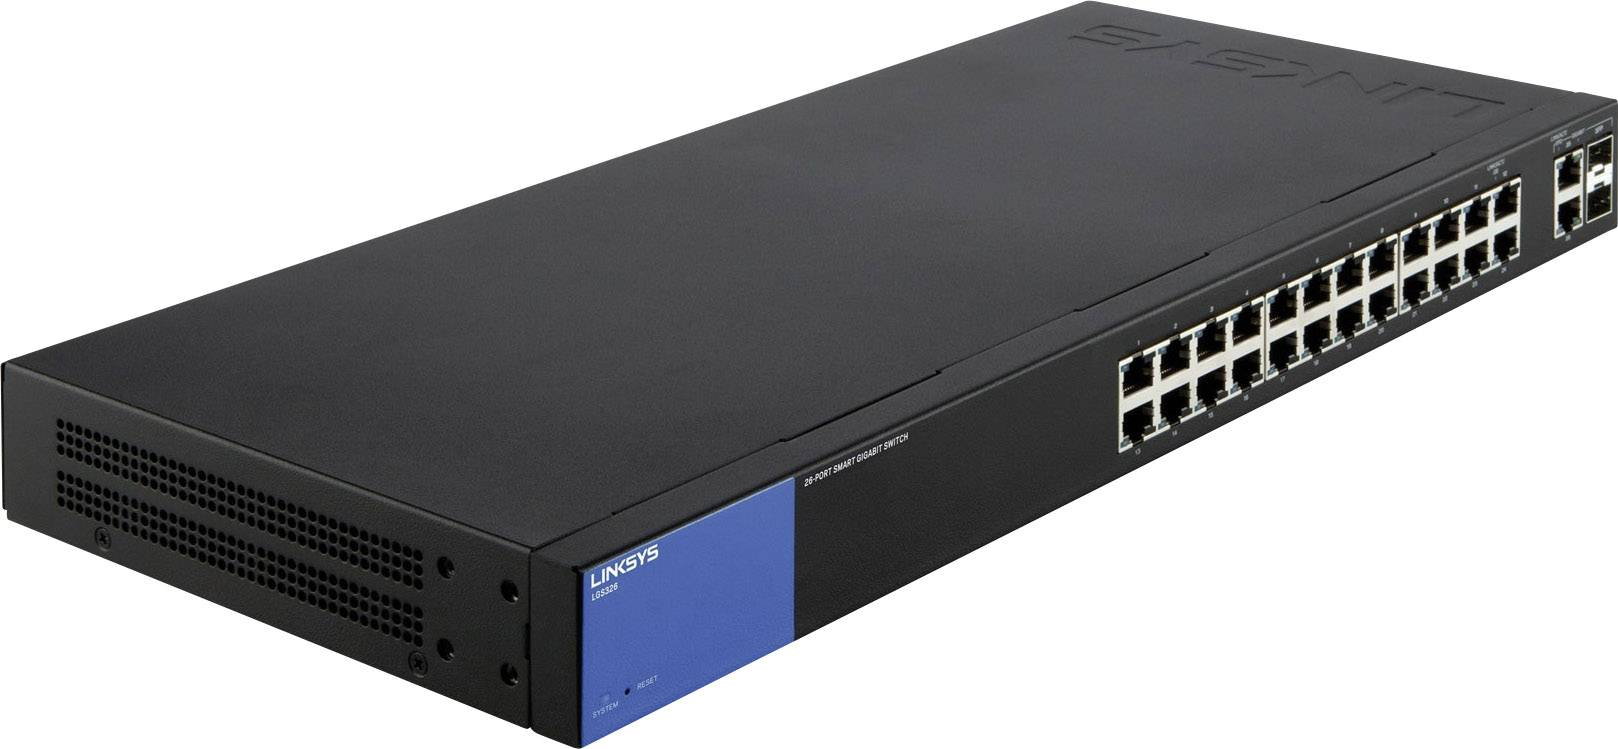Switch: (1, 1, 1618, 724)
